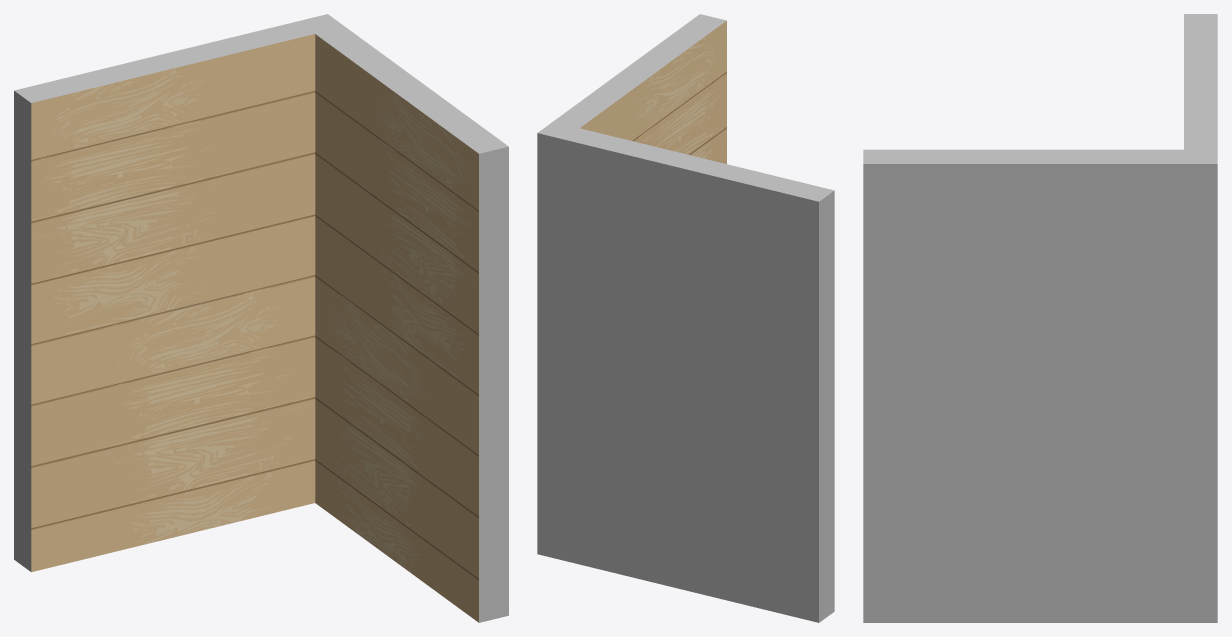
The model's file is Wall Standard Corner (alt).fbx.
The picture shows the model from 3 angles, left to right: view 1: azimuth 30°, elevation 25°; view 2: azimuth 150°, elevation 25°; view 3: azimuth 270°, elevation 25°; orthographic projection. The views are drawn at different scales.
Parts seen in each view (by area): view 1: Wall Standard (Corner) Alt; view 2: Wall Standard (Corner) Alt; view 3: Wall Standard (Corner) Alt.
Part boxes in pixels (bbox=[...]): Wall Standard (Corner) Alt: bbox=[14, 14, 508, 622]; Wall Standard (Corner) Alt: bbox=[537, 14, 834, 622]; Wall Standard (Corner) Alt: bbox=[863, 14, 1217, 622].
Size of the model in its own units: 210 by 300 by 210.
